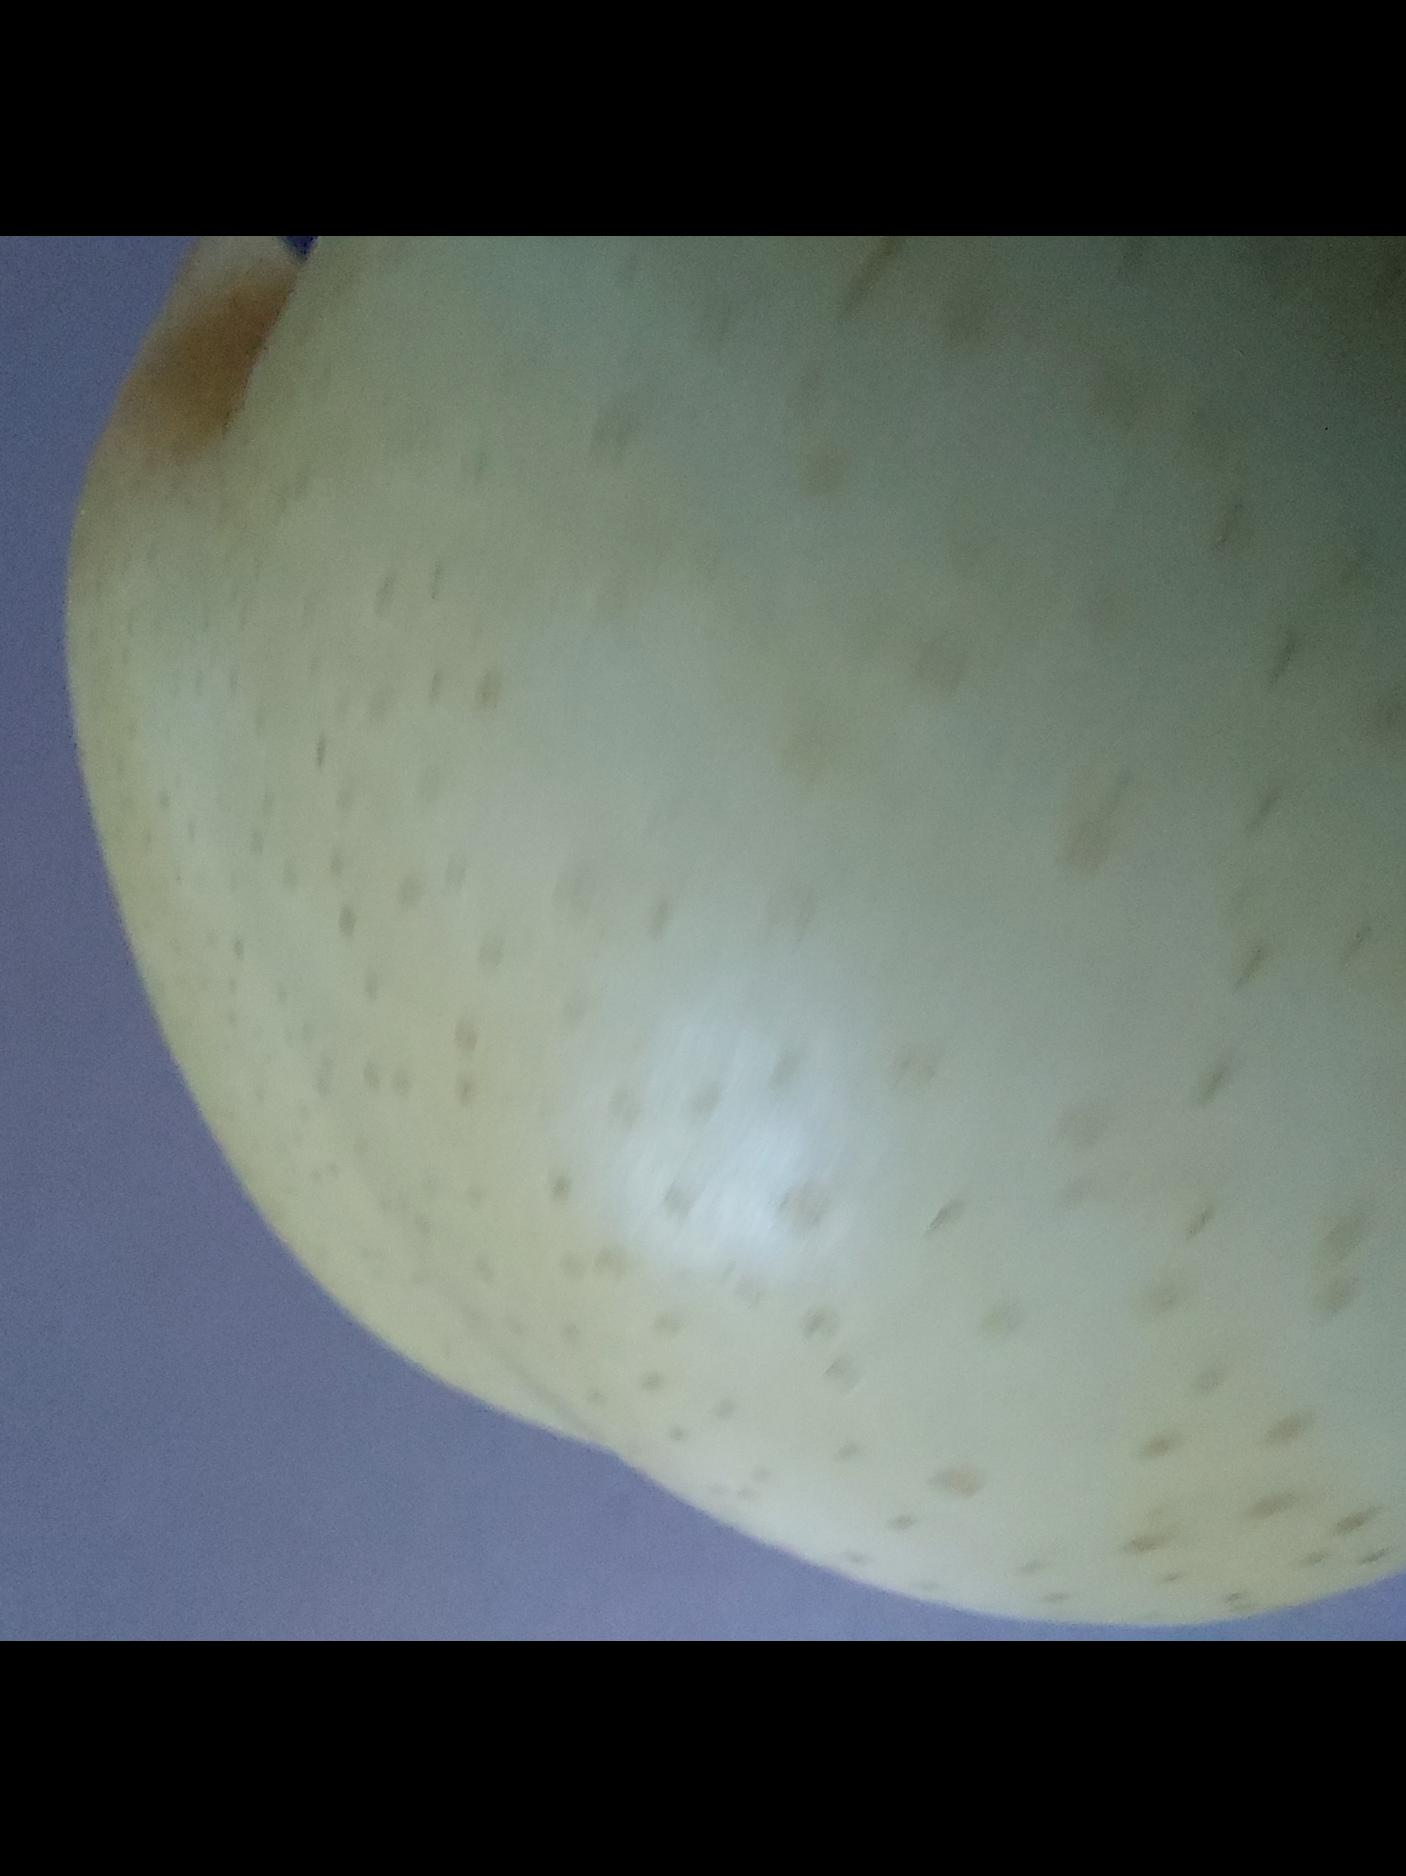Good Pear: (0, 235, 1406, 1640)
